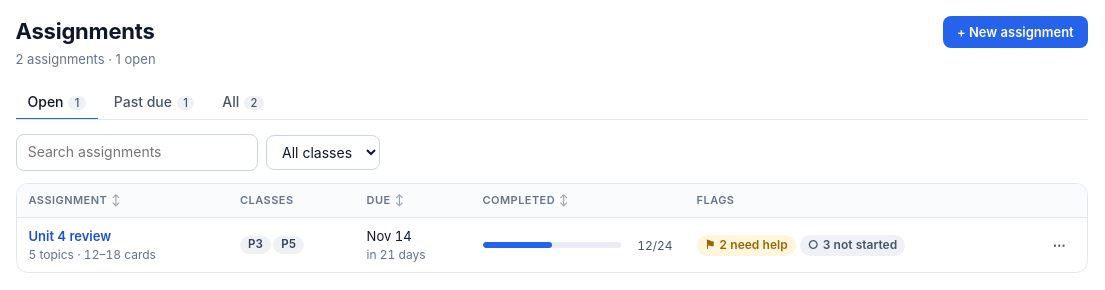
Test: TeacherAssignments list › shows classes, due date, completion and spelled-out flags per row, by status tab
The image size is (1105, 290).
Expected: the text "P3" is shown, [240,236,271,254]
Expected: the text "P5" is shown, [273,236,304,254]
Click the tab "Past due1" at coordinates (154, 103), box [102,85,206,120]
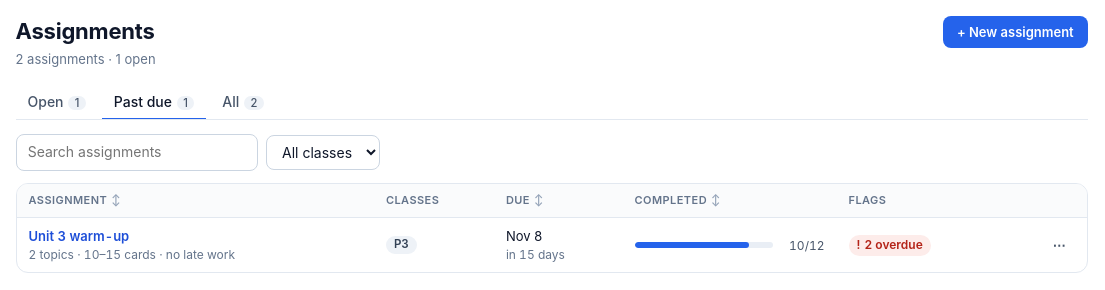
Expected: the text "2 overdue" is shown, [864,237,923,252]
